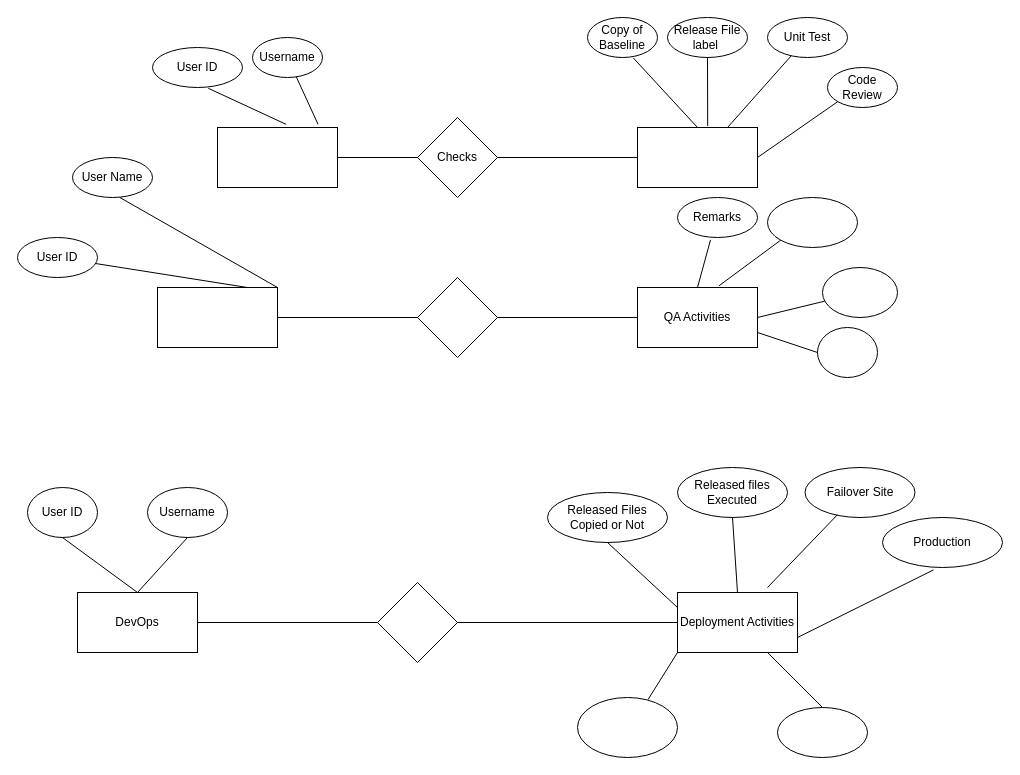
Image size: 1020x775. Some labels were removed from this diagram. The shapes that lost their labels are listed below. From the top down, each one's centre as x and y in pixels, then its label:
(277,157): Software Developer
(697,157): Development Activities
(812,222): Test Cases
(860,292): Software Stability
(217,317): Quality Assurance
(457,317): Tests
(847,352): Bugs
(417,622): Deploys
(627,727): Department Head
(822,732): Unit Incharge
